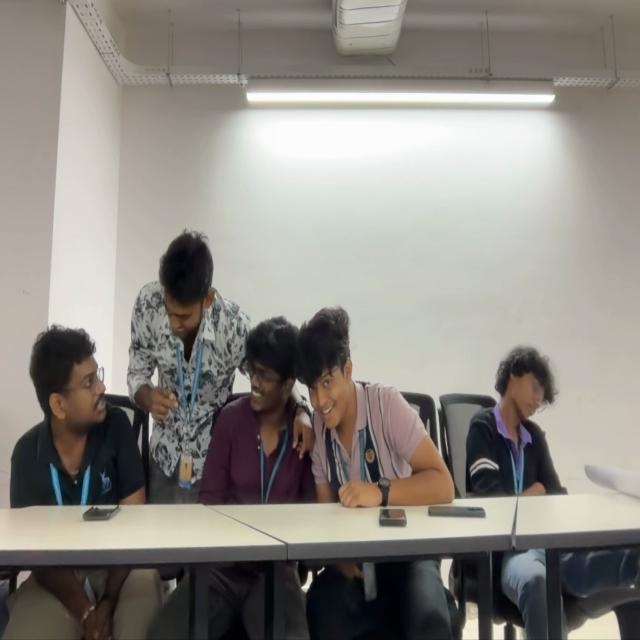Isolated: (466, 344, 562, 492)
socializing: (11, 226, 456, 506)
